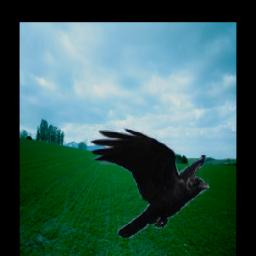Crow: (90, 127, 211, 239)
